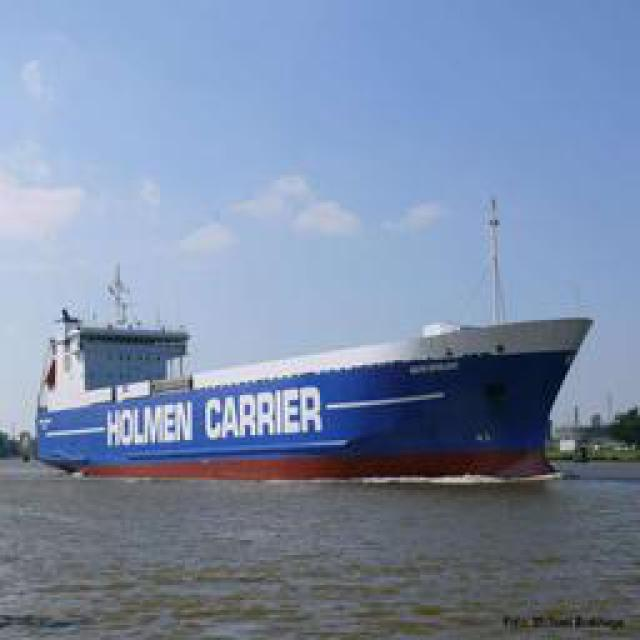Ship: (35, 286, 590, 484)
